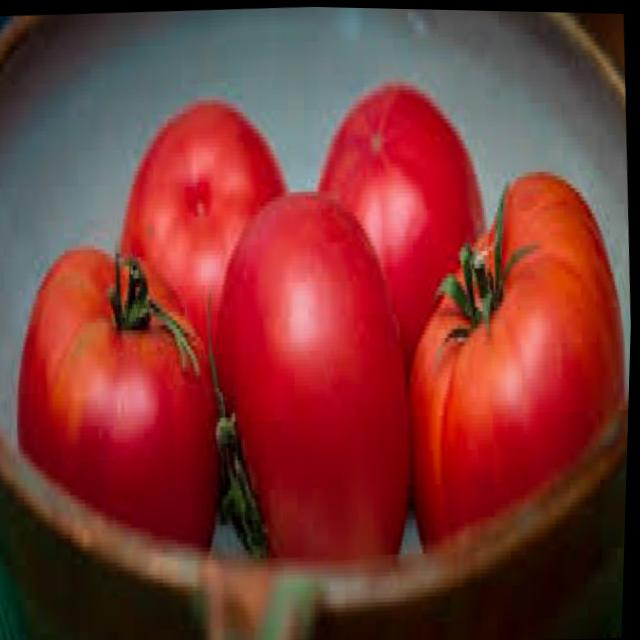tomato: (397, 163, 636, 564), (204, 188, 427, 571), (7, 237, 229, 560), (107, 94, 302, 363), (309, 74, 493, 339)
